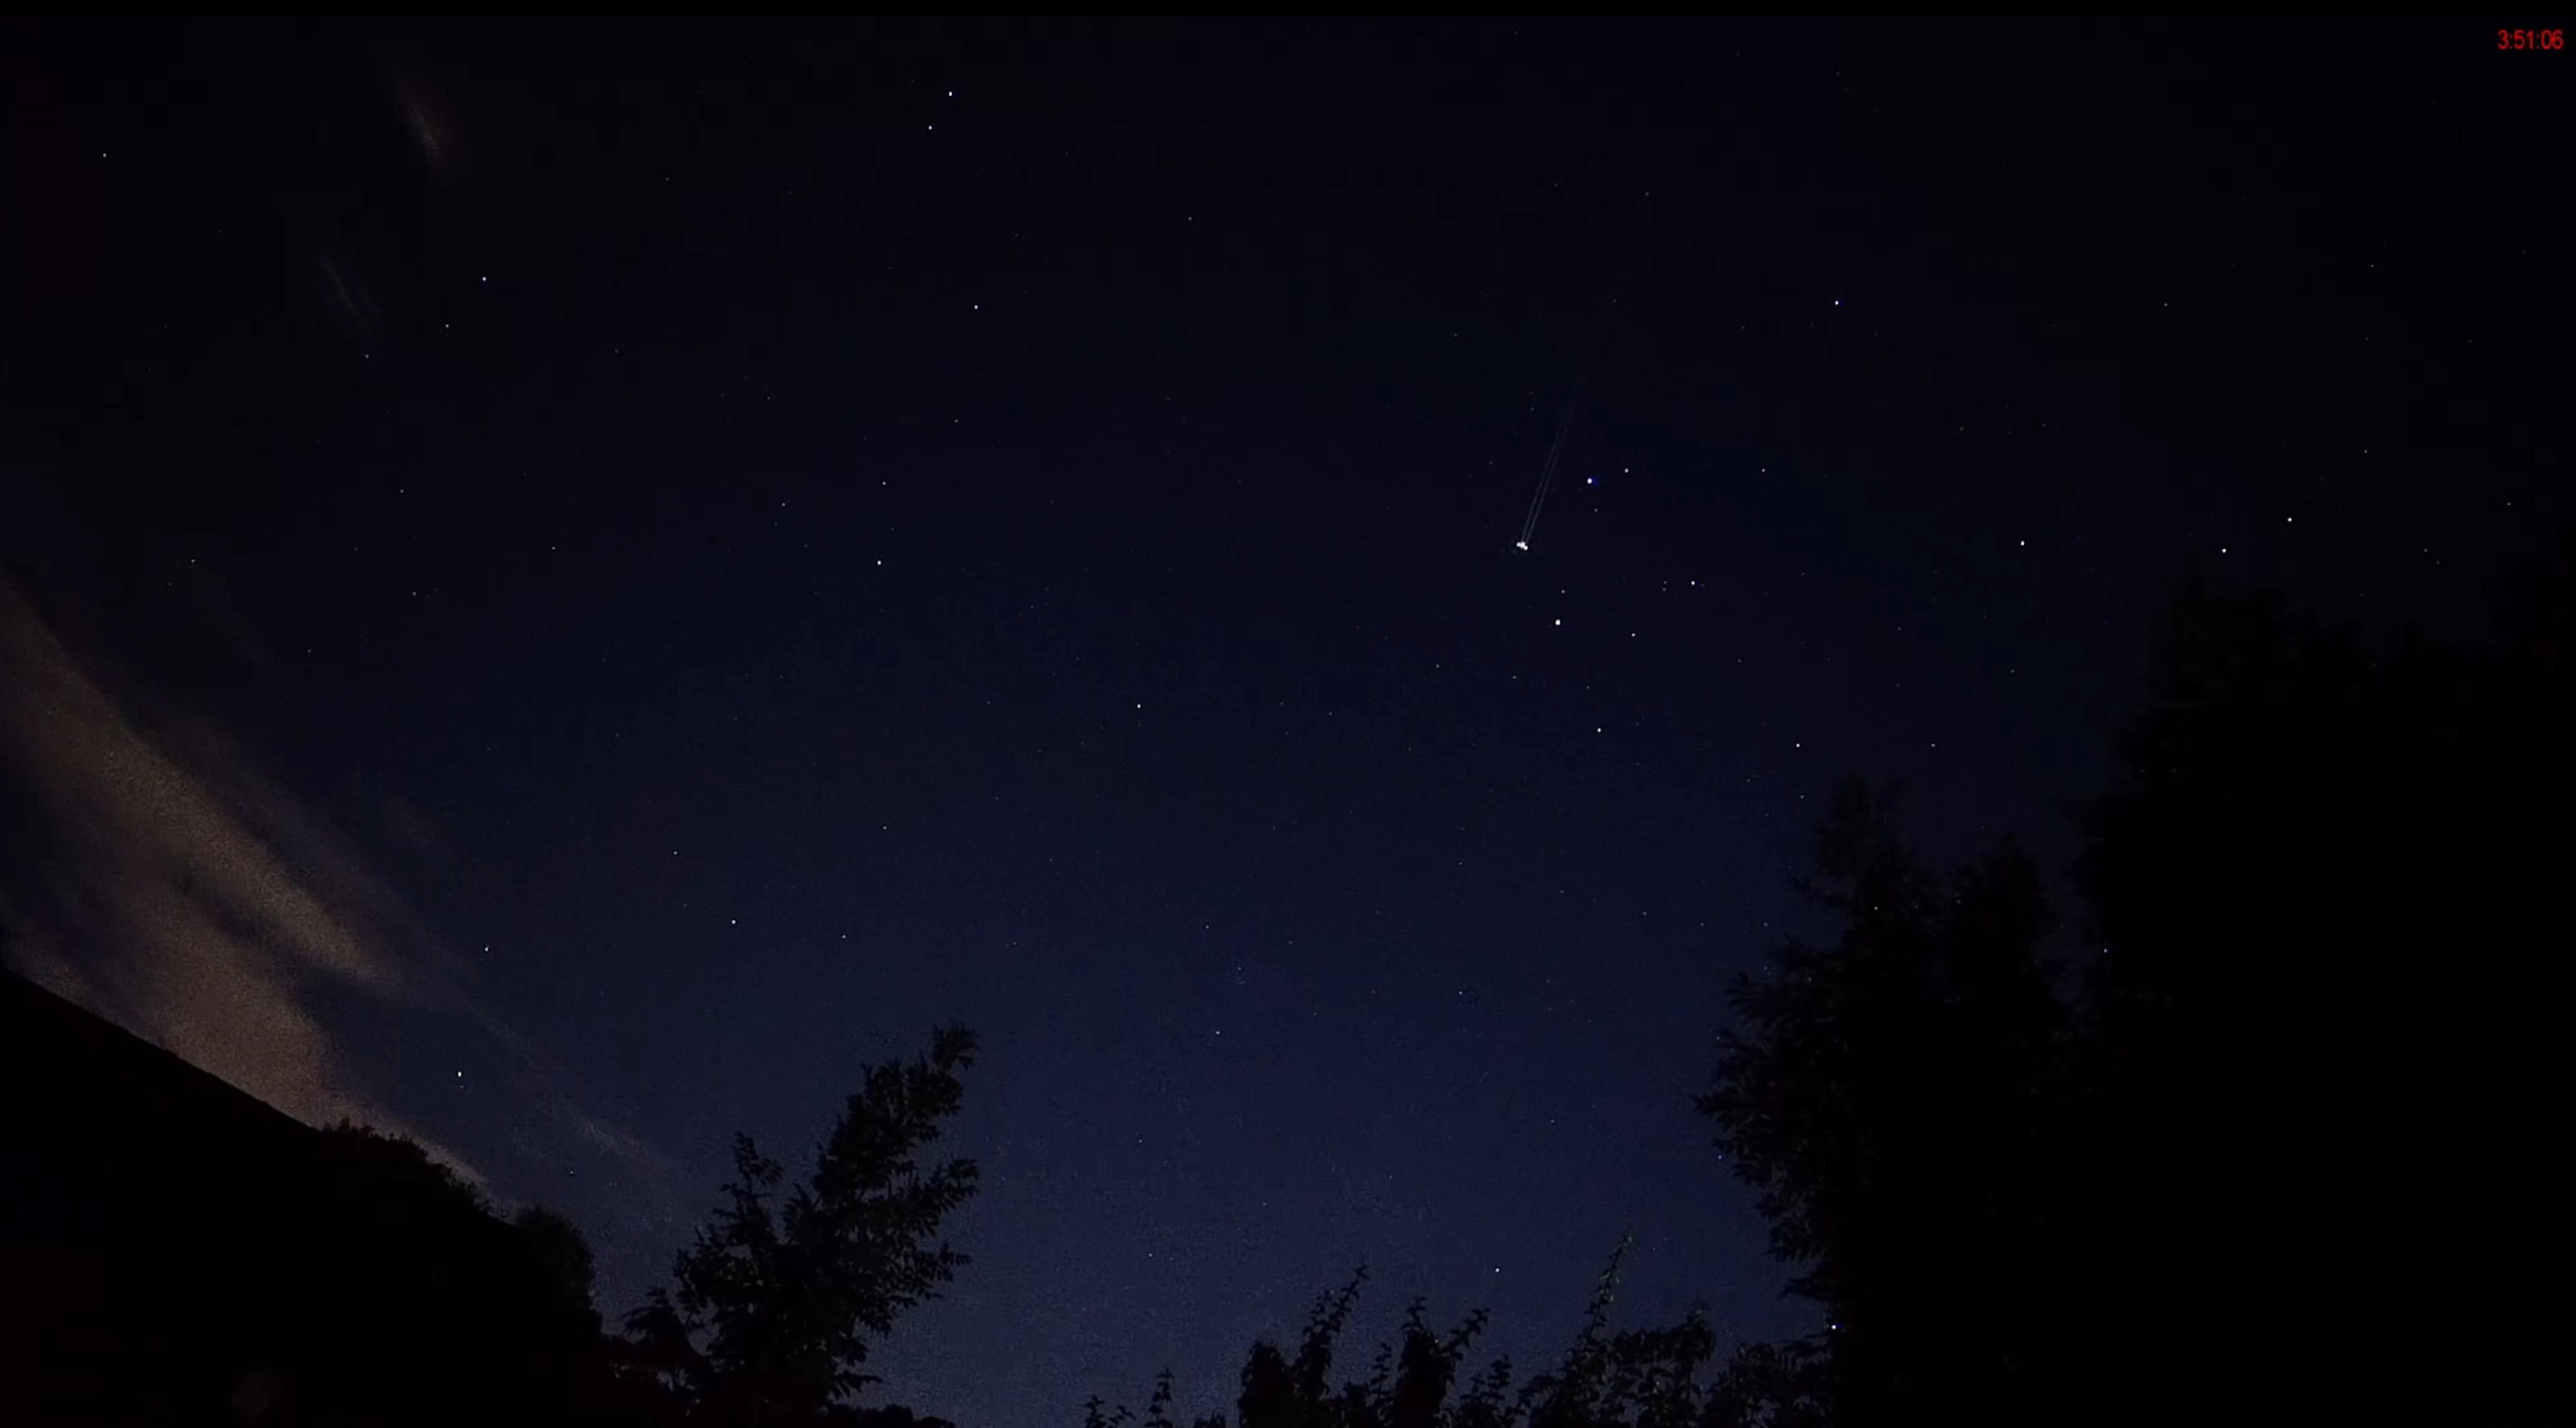Plane: (1481, 505, 1562, 568)
